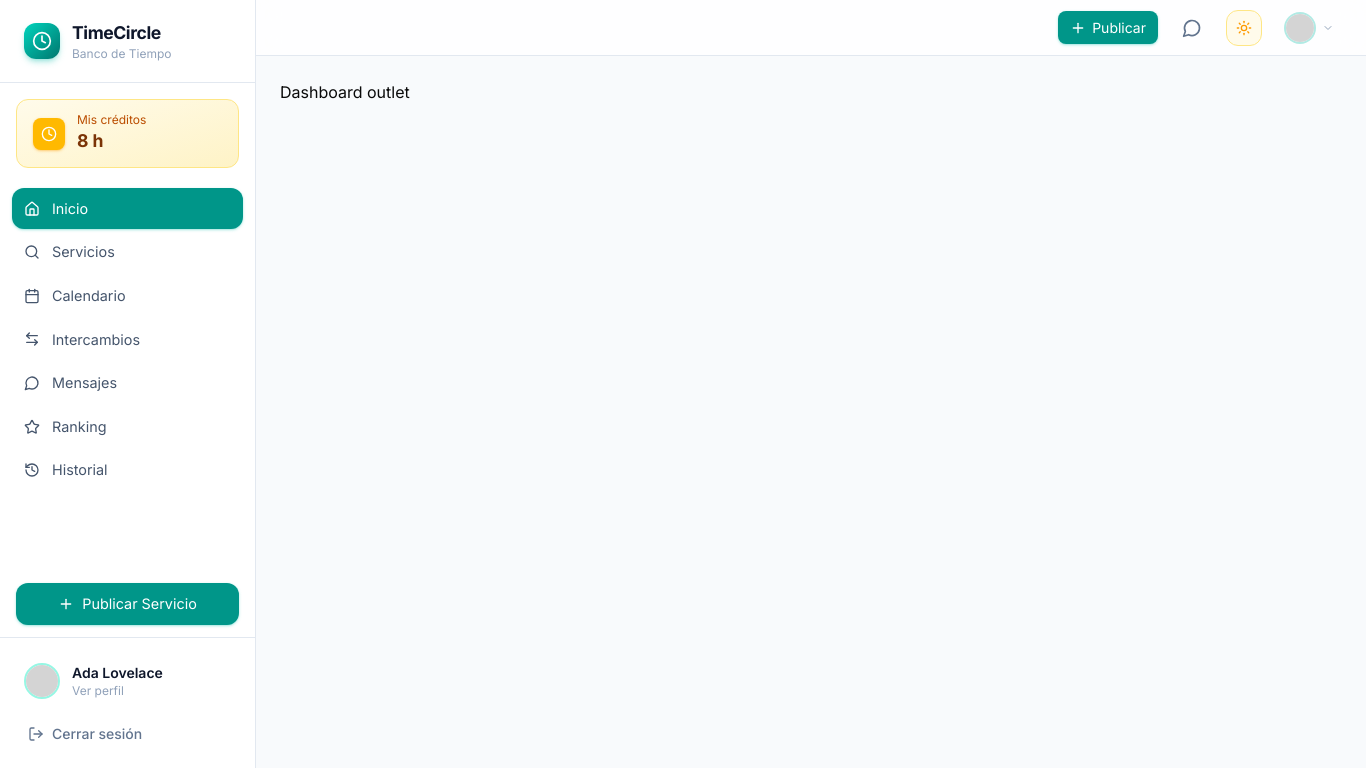
Layout › opens the profile menu, closes it through the profile link, and navigates links through the outlet
The image size is (1366, 768).
Click the 2nd button at (1310, 28), box [1278, 8, 1342, 48]
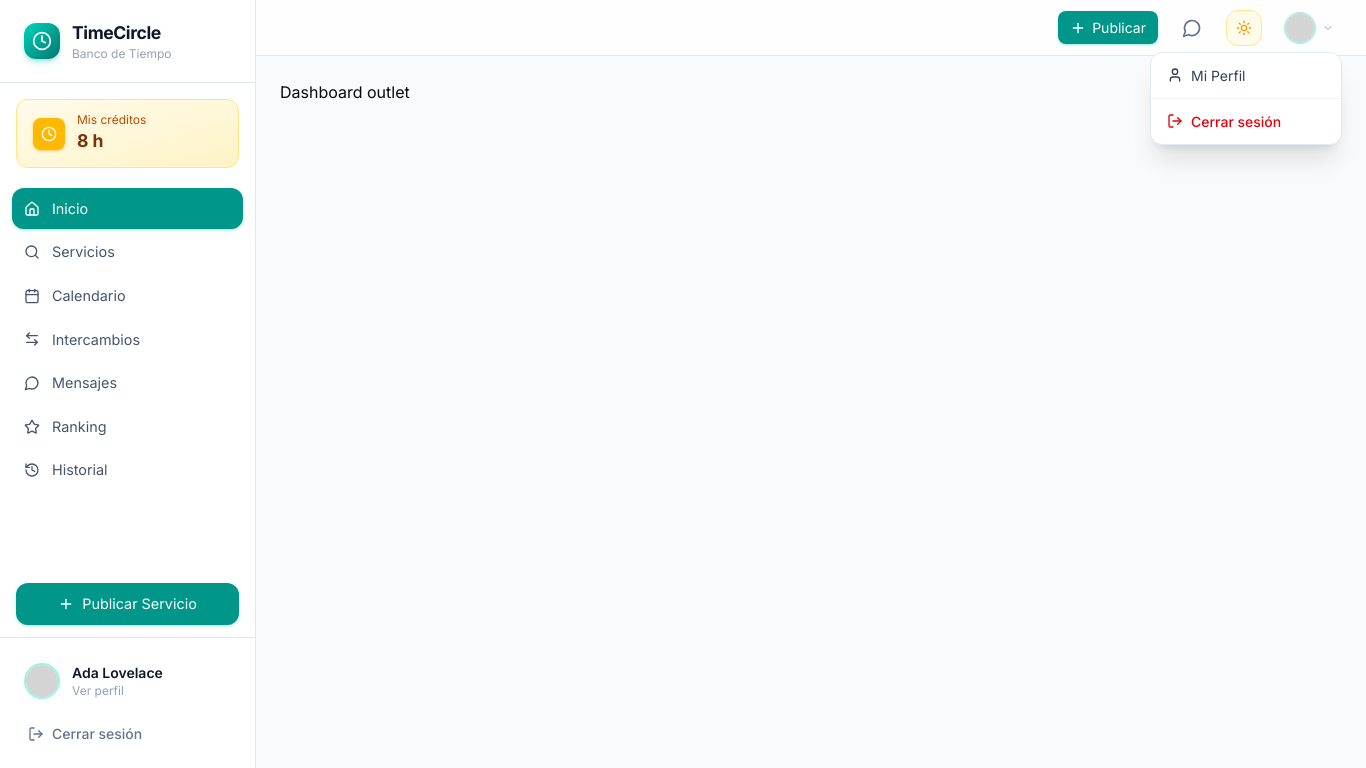
Check: the link "Mi Perfil" is shown
Click the link "Mi Perfil" at (1206, 75), box [1167, 66, 1246, 84]
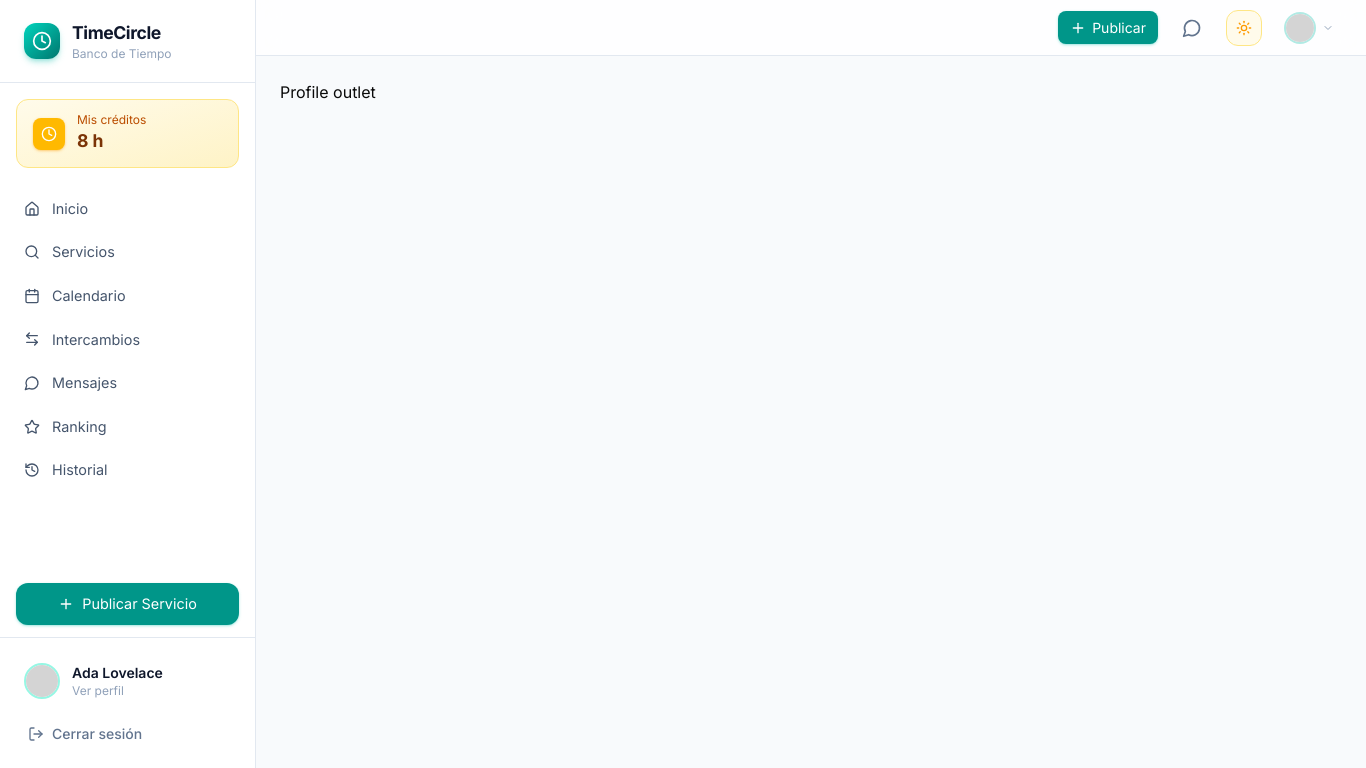
Check: the link "Mi Perfil" is gone
Click the link "Publicar Servicio" at (128, 604), box [16, 583, 239, 625]
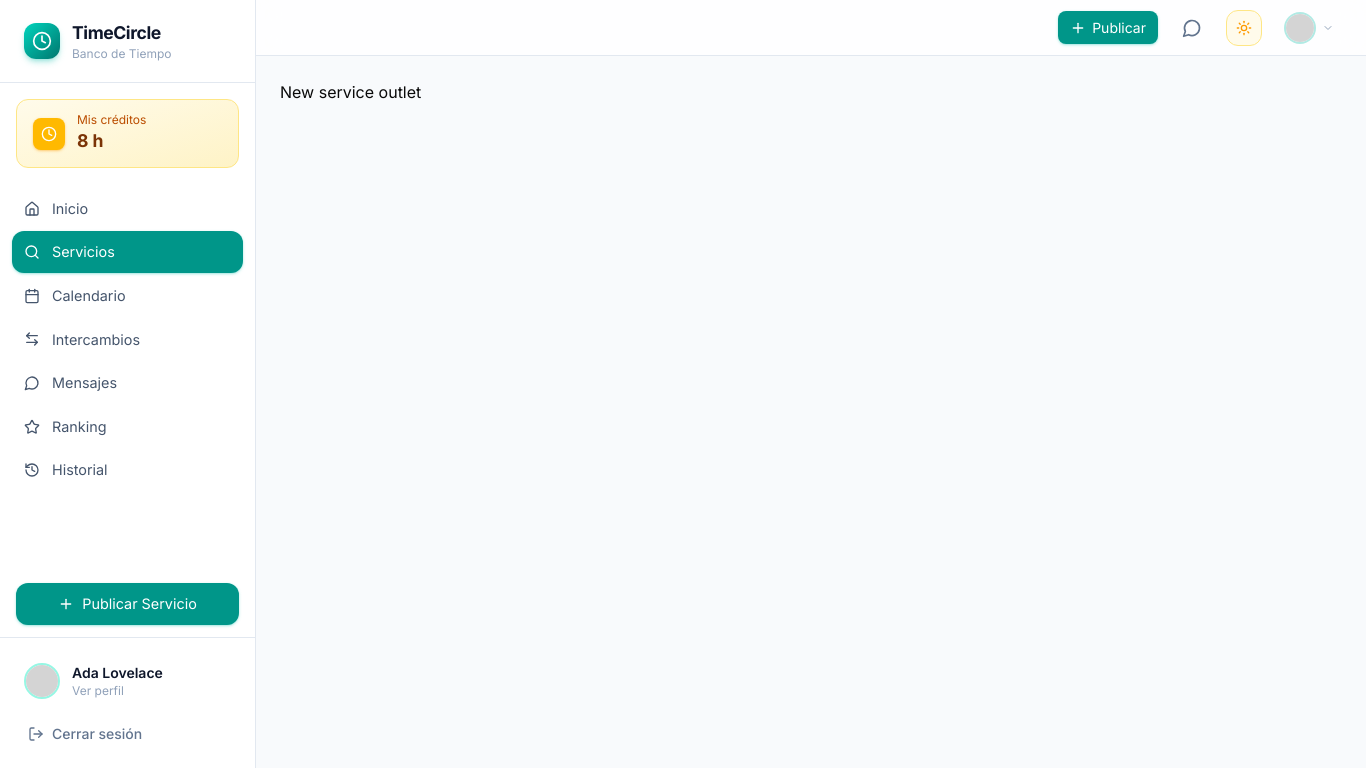
Check: the text "New service outlet" is shown, box [280, 82, 421, 102]
